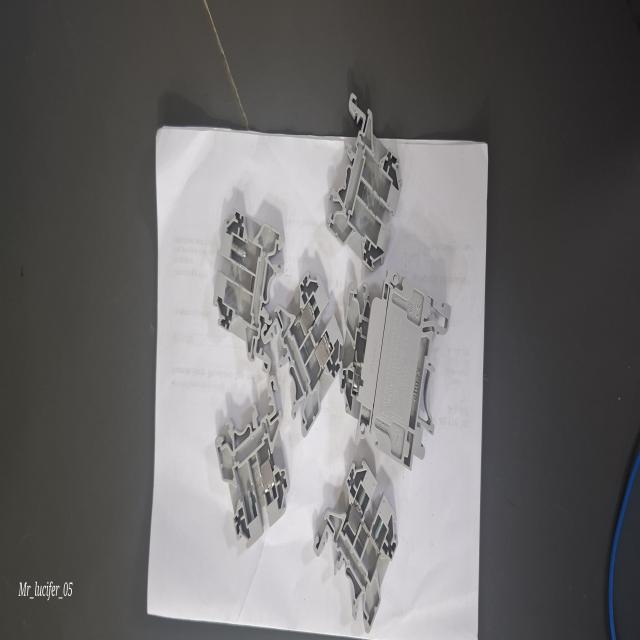Pass: (262, 270, 344, 437)
Reject: (313, 460, 398, 630), (325, 90, 402, 274), (214, 376, 290, 540), (213, 208, 284, 374)
